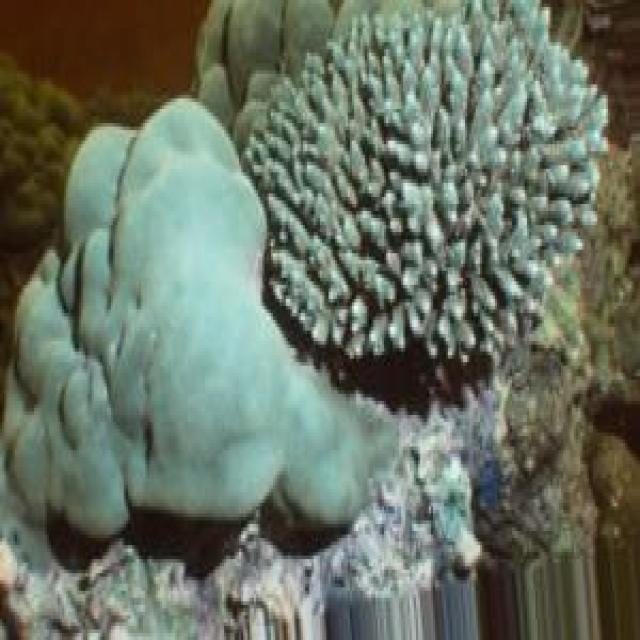Healthy: (1, 96, 400, 574), (238, 12, 607, 391)
